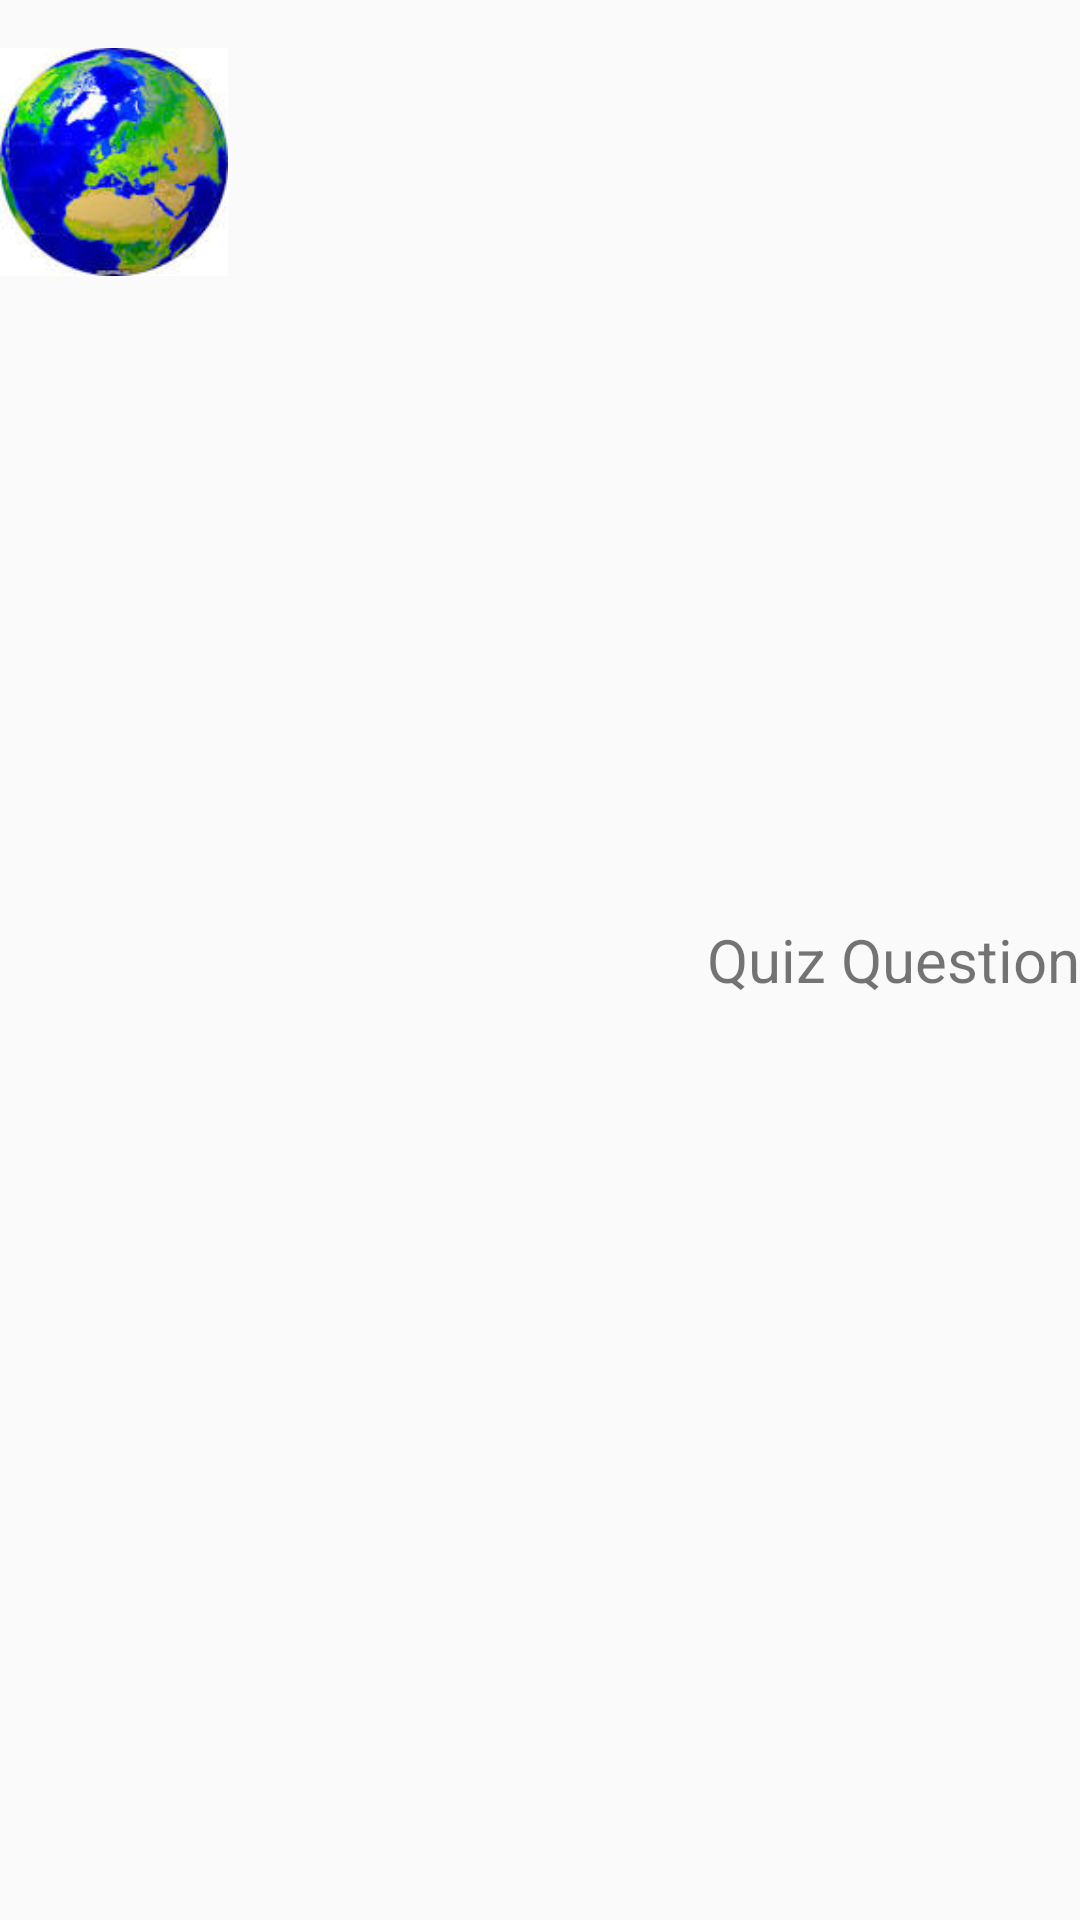

Icons on this 1080 × 1920 Android screen, each with its box as (x1, y1, x2, y2):
geography: (0, 48, 228, 276)
